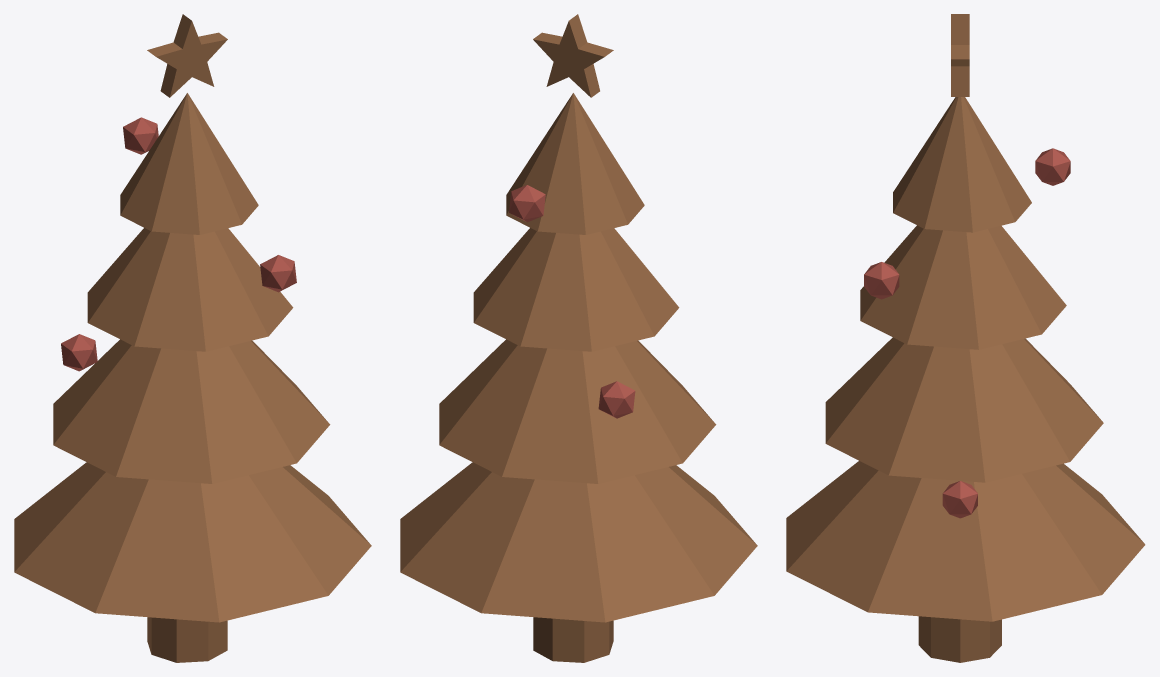
The model's file is christmas_tree.fbx.
3 views of the same model, side by side, from view 1: azimuth 30°, elevation 25°; view 2: azimuth 150°, elevation 25°; view 3: azimuth 270°, elevation 25° (orthographic).
Visible parts, largest first — view 1: christmas_tree; view 2: christmas_tree; view 3: christmas_tree.
Boxes of the visible parts, left/top/right/bottom form: christmas_tree: left=14, top=14, right=371, bottom=662; christmas_tree: left=400, top=14, right=757, bottom=662; christmas_tree: left=786, top=14, right=1145, bottom=662.
Size of the model in its own units: 1047 by 2000 by 1031.
